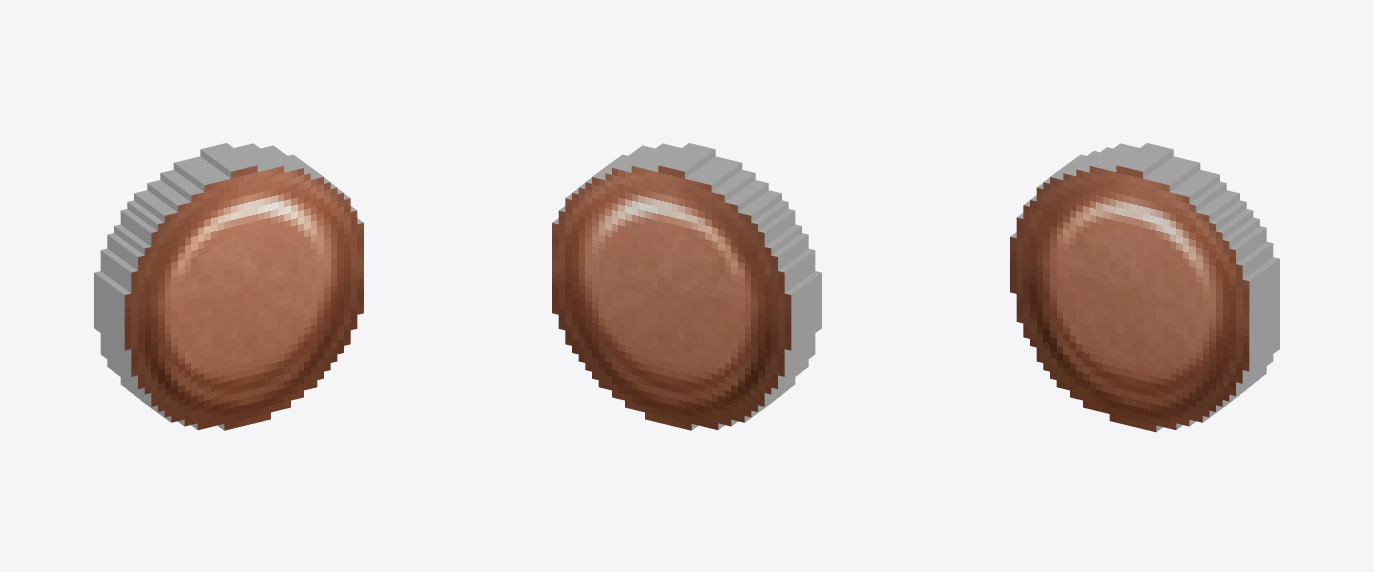
The model's file is Rivet.glb.
3 renders of one model, left to right at view 1: azimuth 30°, elevation 25°; view 2: azimuth 150°, elevation 25°; view 3: azimuth 330°, elevation 25°, orthographic.
Parts seen in each view (by area): view 1: PaperVolume; view 2: PaperVolume; view 3: PaperVolume.
Boxes of the visible parts, x1,y1,x2,y2 form: PaperVolume: [94, 143, 363, 430]; PaperVolume: [552, 143, 821, 430]; PaperVolume: [1010, 143, 1279, 432].
Size of the model in its own units: 0.6 by 0.61 by 0.08.
3 materials, 2 textured.
